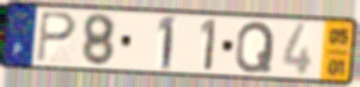1: (156, 15, 178, 72), (199, 17, 218, 74)
4: (280, 21, 317, 79)
8: (80, 11, 118, 69)
P: (35, 9, 79, 64)
Q: (233, 19, 277, 75)
